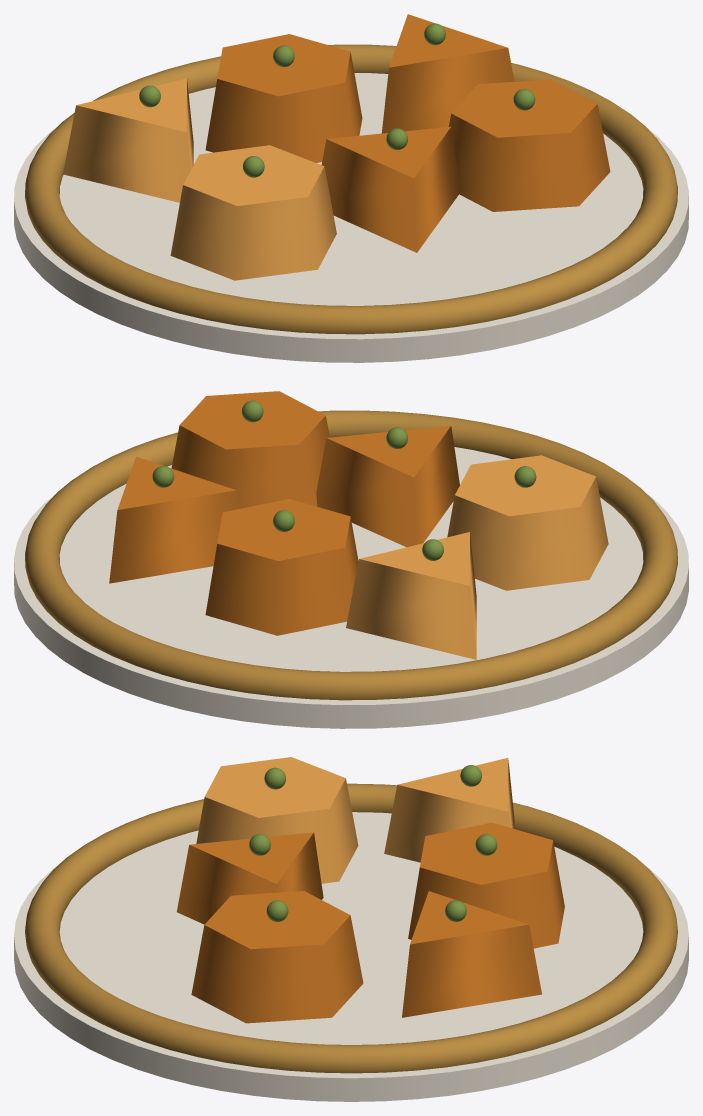
Rendered from savories.glb.
3 renders of one model, top to bottom at view 1: azimuth 30°, elevation 25°; view 2: azimuth 150°, elevation 25°; view 3: azimuth 270°, elevation 25°, orthographic.
Visible parts, largest first — view 1: LaBaguette_savories; view 2: LaBaguette_savories; view 3: LaBaguette_savories.
Part boxes in pixels (box(x1,y1,x2,y2)): LaBaguette_savories: box(14, 14, 688, 362); LaBaguette_savories: box(14, 391, 688, 728); LaBaguette_savories: box(14, 757, 688, 1101).
Bounding box in the file's own units: 3.1 × 0.63 × 3.1.
